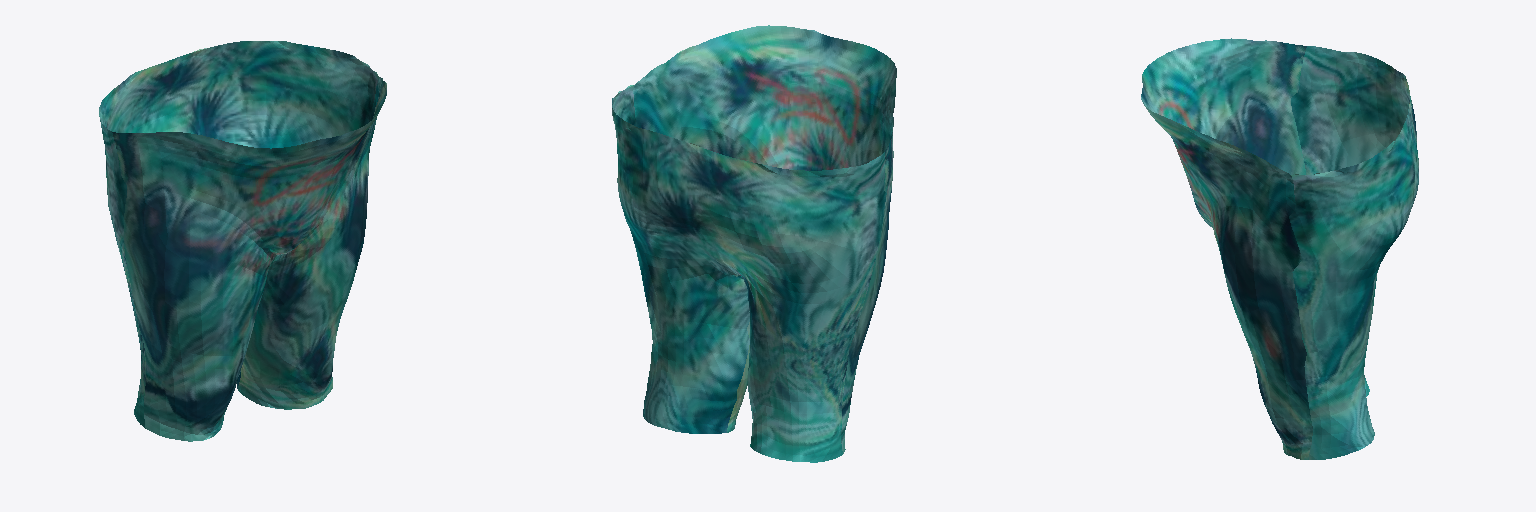
The picture shows the model from 3 angles: view 1: azimuth 30°, elevation 25°; view 2: azimuth 150°, elevation 25°; view 3: azimuth 270°, elevation 25°; orthographic projection.
Parts seen in each view (by area): view 1: short-pant_16; view 2: short-pant_16; view 3: short-pant_16.
Boxes of the visible parts, <box> form: short-pant_16: <box>99,41,386,441</box>; short-pant_16: <box>612,25,896,462</box>; short-pant_16: <box>1141,38,1418,459</box>.
Bounding box in the file's own units: 0.4771 × 0.5979 × 0.4394.
Materials: 1 (1 with a texture image).